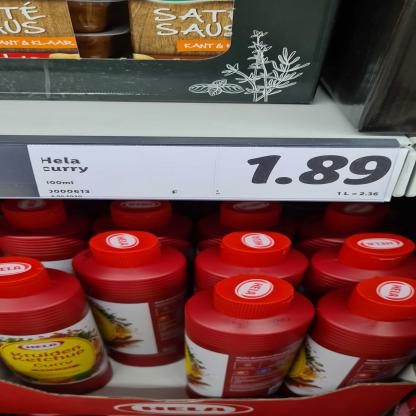prtg: (28, 146, 410, 203)
